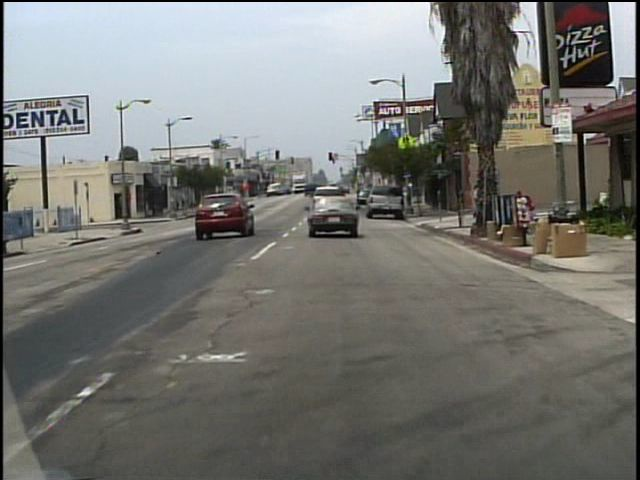person: (482, 180, 493, 214), (472, 183, 481, 211)
